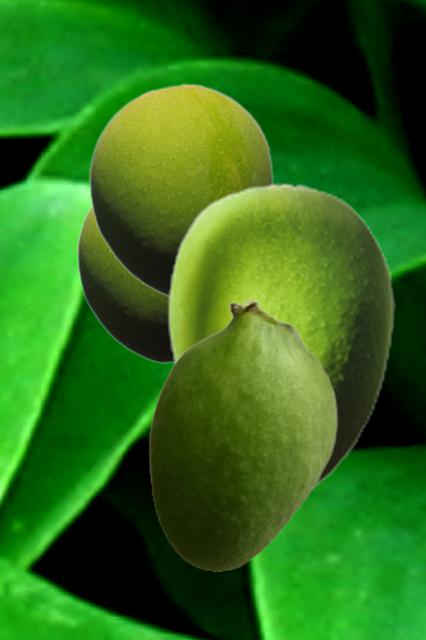green_mango: (166, 182, 394, 493), (148, 298, 337, 570), (88, 83, 273, 297), (76, 204, 172, 363)
